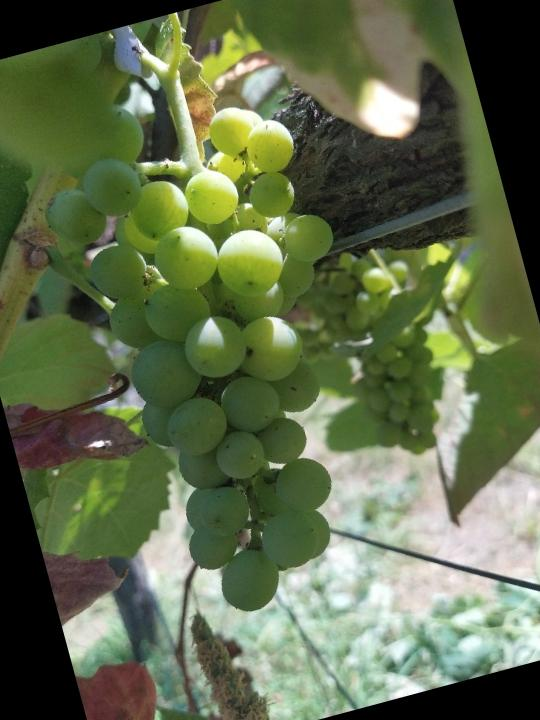grape: (25, 86, 426, 640)
